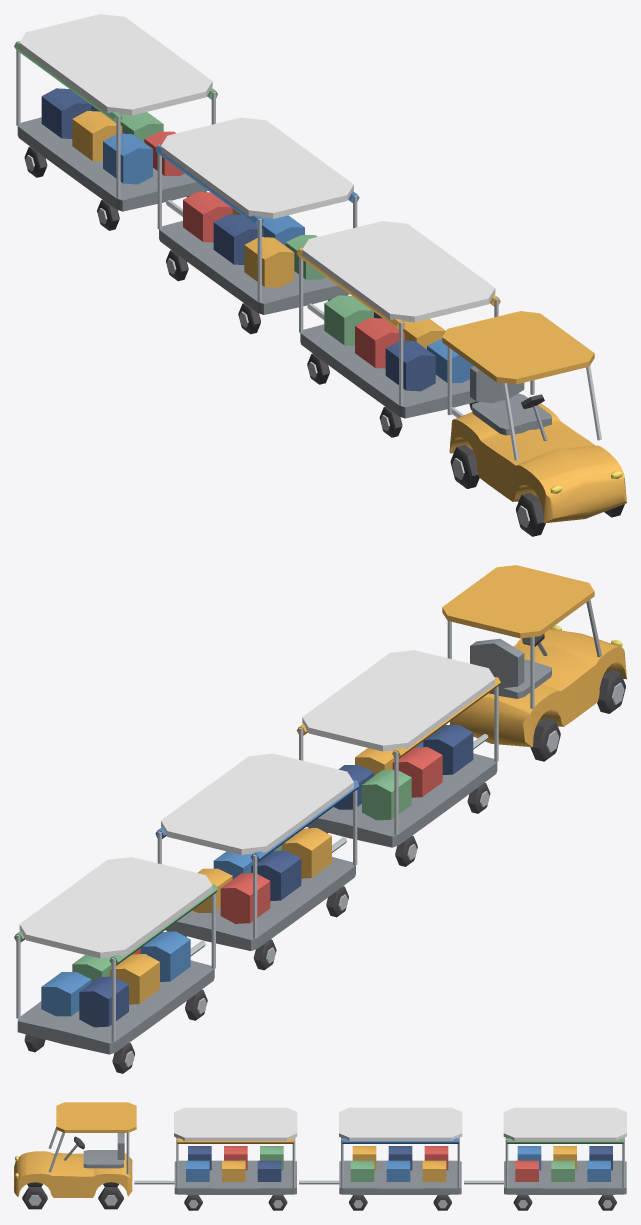
Rendered from train_bagages.glb.
3 renders of one model, top to bottom at view 1: azimuth 30°, elevation 25°; view 2: azimuth 150°, elevation 25°; view 3: azimuth 270°, elevation 25°, orthographic. The views are drawn at different scales.
Visible parts, largest first — view 1: chariot_1, chariot_3, chariot_2, tracteur; view 2: chariot_3, chariot_1, chariot_2, tracteur; view 3: chariot_2, chariot_3, chariot_1, tracteur.
Boxes of the visible parts, <box> form: chariot_1: <box>296,221,500,437</box>; chariot_3: <box>14,14,217,230</box>; chariot_2: <box>155,117,359,334</box>; tracteur: <box>442,311,626,536</box>; chariot_3: <box>14,857,217,1073</box>; chariot_1: <box>296,650,500,866</box>; chariot_2: <box>155,753,359,970</box>; tracteur: <box>442,565,626,761</box>; chariot_2: <box>299,1107,462,1210</box>; chariot_3: <box>464,1107,626,1210</box>; chariot_1: <box>134,1107,297,1210</box>; tracteur: <box>14,1102,136,1209</box>.
Size of the model in its own units: 1.68 by 2.12 by 14.51.
